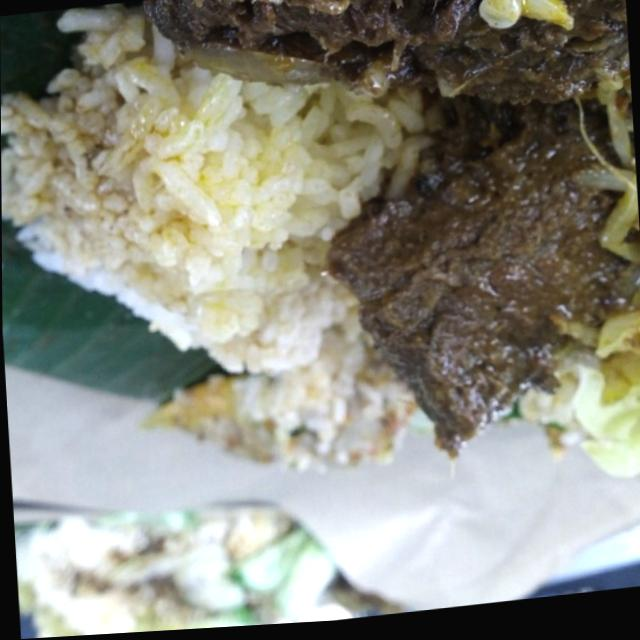米饭主食: (2, 0, 640, 628)
